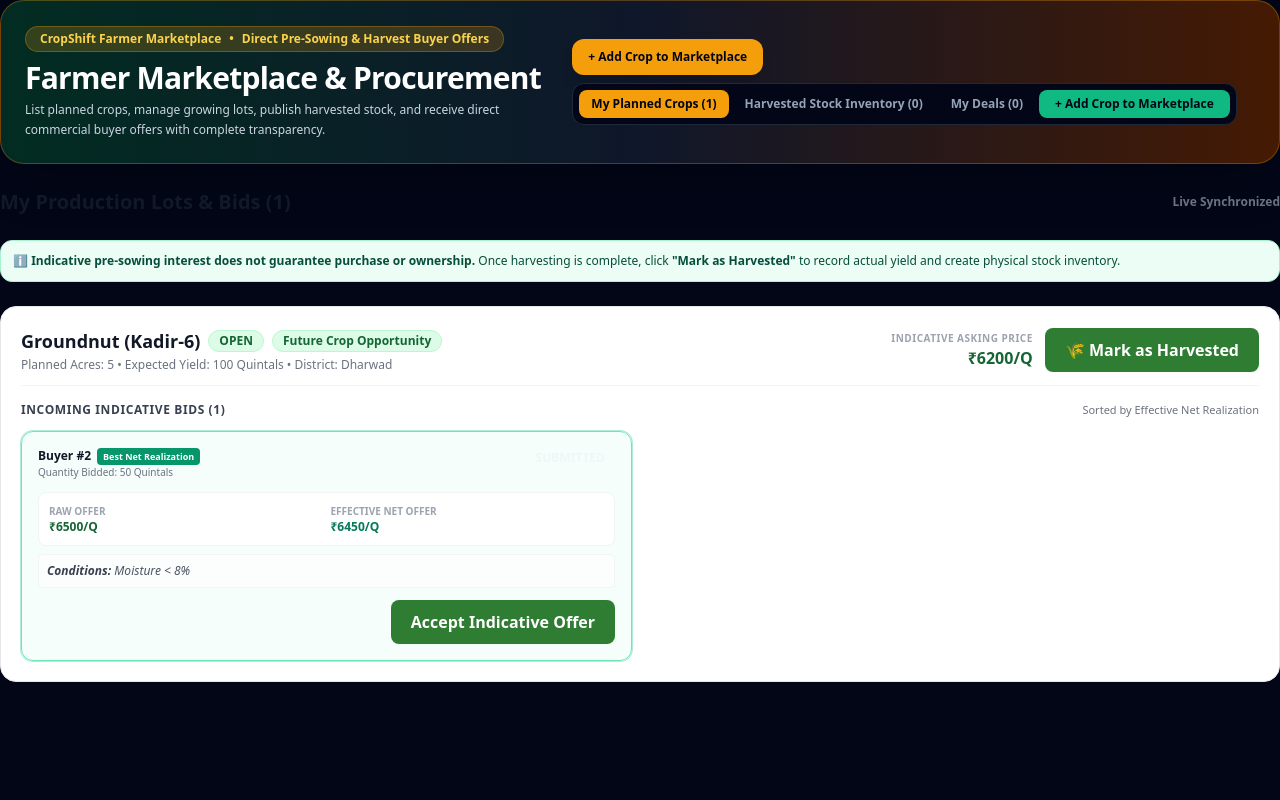
Scenario: Phase 5C — Live Frontend Bidding Integration Test Suite › 10. Farmer can open acceptance confirmation modal
Click the button "Accept Indicative Offer". click: (503, 622)
box: left=391, top=600, right=615, bottom=644
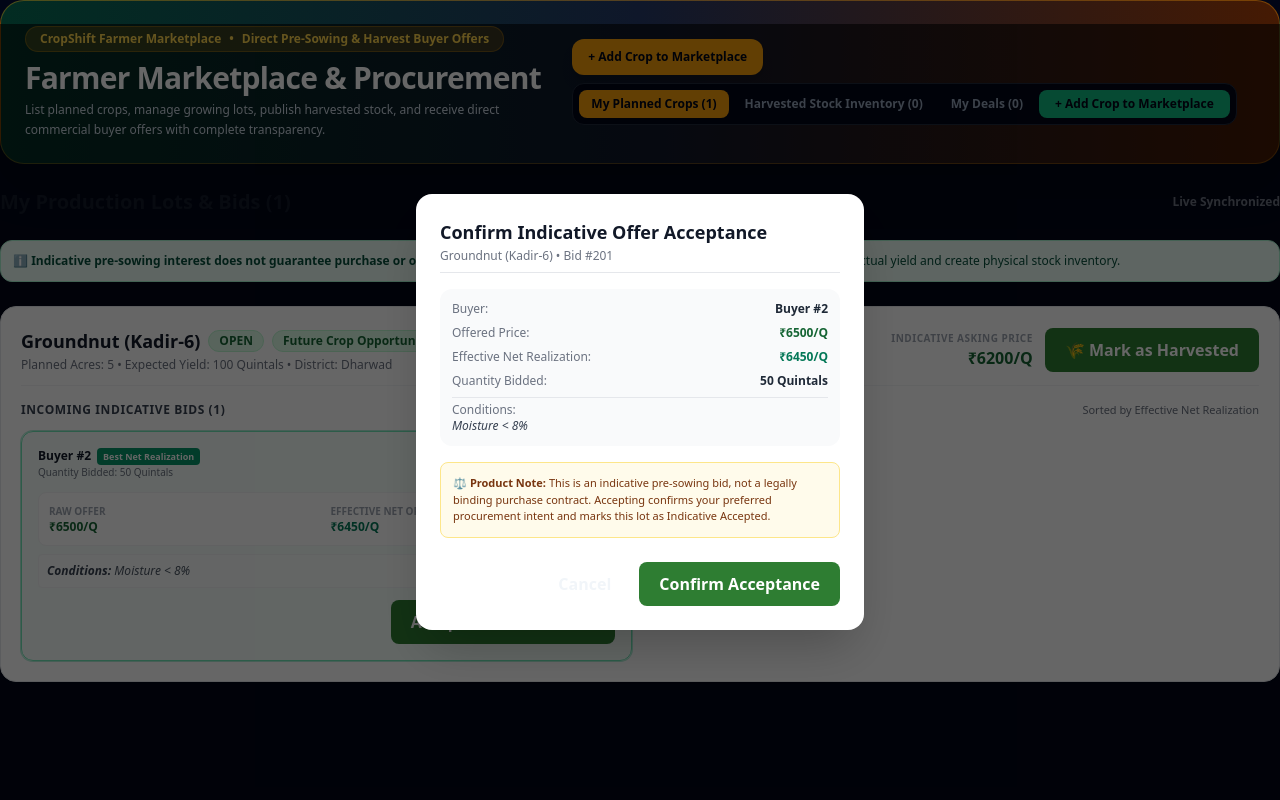
Expected: the heading "Confirm Indicative Offer Acceptance" is shown, left=440, top=220, right=767, bottom=244
Expected: the text "This is an indicative pre-sowing bid, not a legally binding purchase contract" is shown, left=453, top=475, right=797, bottom=523
